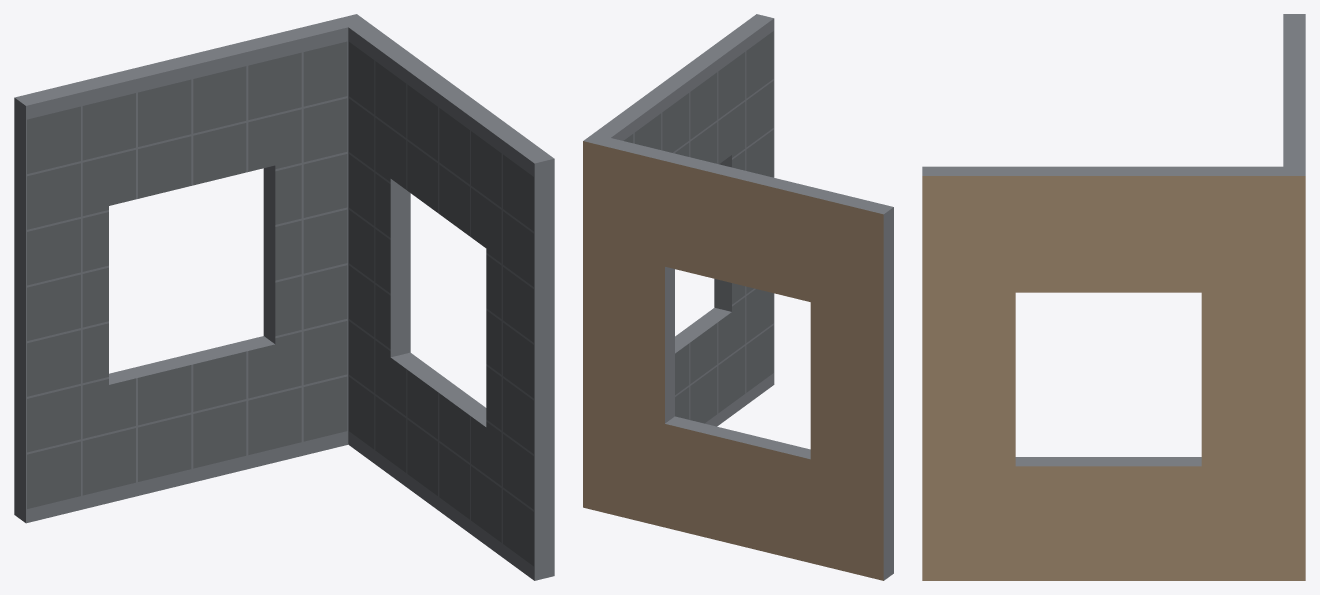
File: Wall2_C7_12.fbx
The picture shows the model from 3 angles, left to right: view 1: azimuth 30°, elevation 25°; view 2: azimuth 150°, elevation 25°; view 3: azimuth 270°, elevation 25°; orthographic projection. The views are drawn at different scales.
Parts seen in each view (by area): view 1: Wall2_C7_12; view 2: Wall2_C7_12; view 3: Wall2_C7_12.
Boxes of the visible parts, x1,y1,x2,y2 form: Wall2_C7_12: (14,14,554,580); Wall2_C7_12: (583,14,893,580); Wall2_C7_12: (922,14,1305,580).
Bounding box in the file's own units: 258 × 300 × 258.
